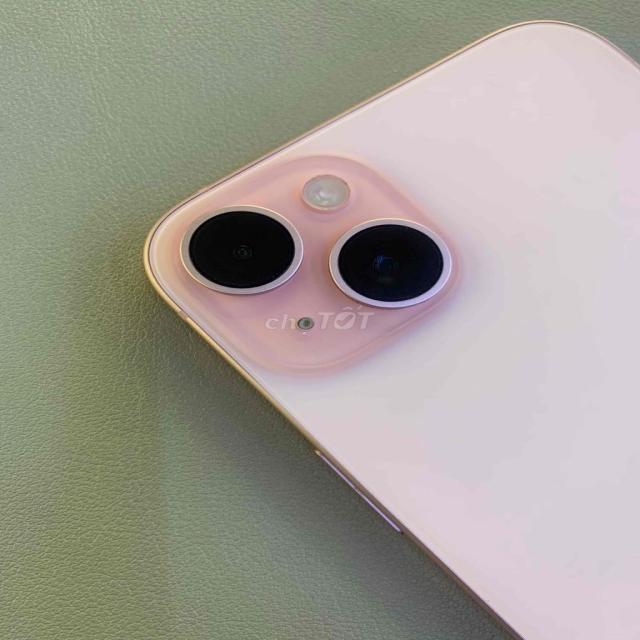gen_15: (133, 11, 640, 639)
